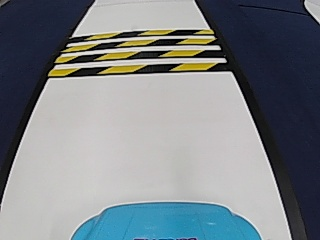bump: (71, 28, 207, 79)
